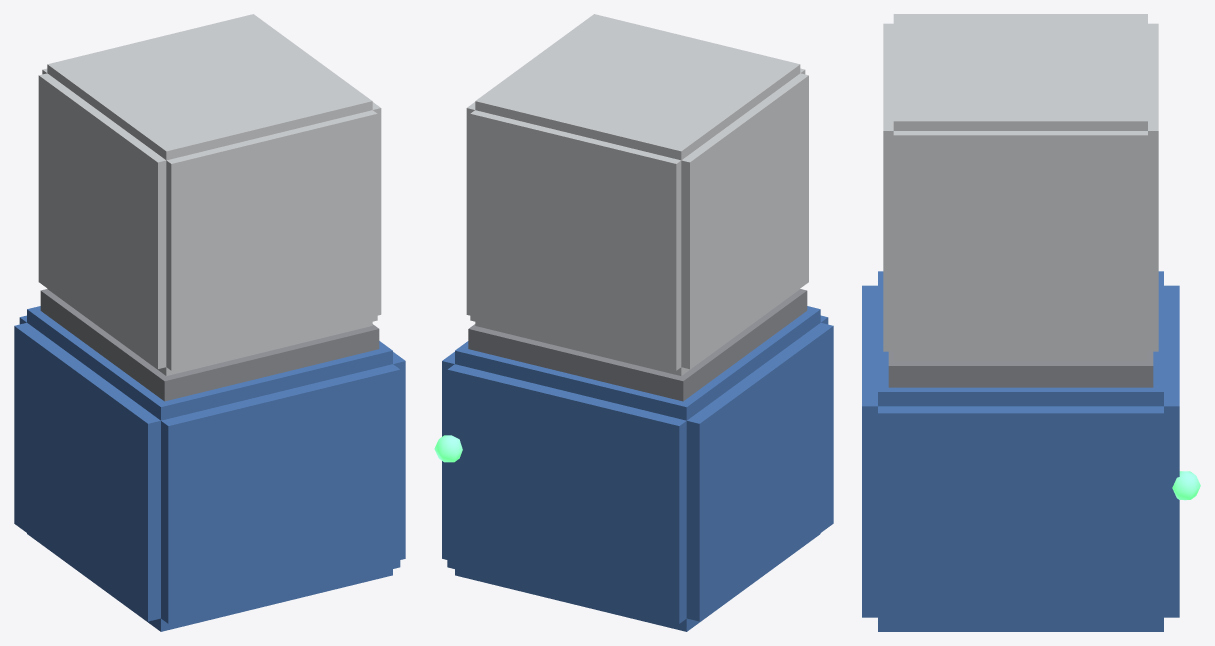
The model's file is paint_shaker.glb.
3 renders of one model, left to right at view 1: azimuth 30°, elevation 25°; view 2: azimuth 150°, elevation 25°; view 3: azimuth 270°, elevation 25°, orthographic. The views are drawn at different scales.
Visible parts, largest first — view 1: paint_shaker; view 2: paint_shaker; view 3: paint_shaker.
Part boxes in pixels (<box>): paint_shaker: <box>14,14,405,631</box>; paint_shaker: <box>434,14,833,631</box>; paint_shaker: <box>862,14,1200,631</box>.
Size of the model in its own units: 0.6 by 1.05 by 0.64.
